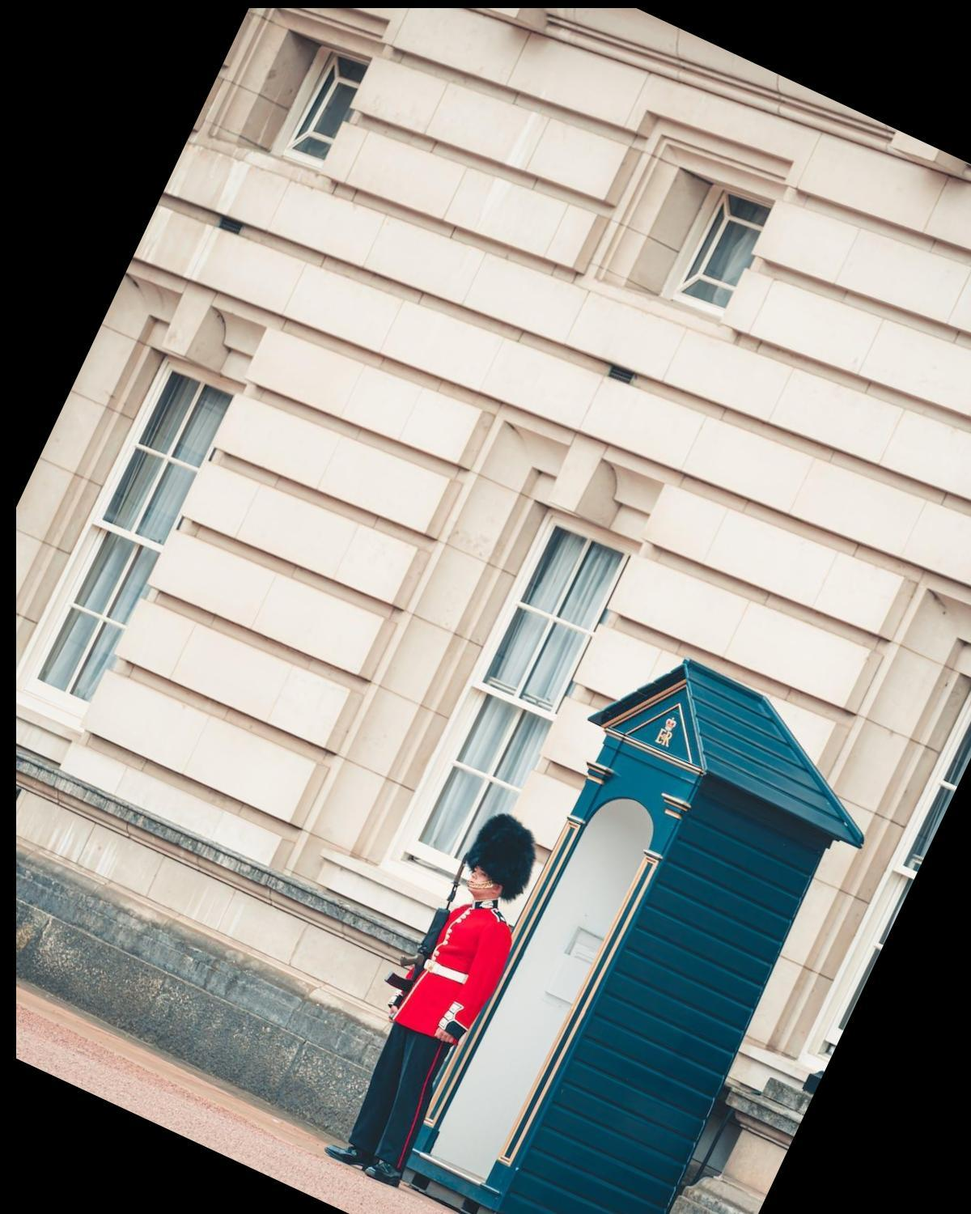larga: (385, 852, 471, 1013)
